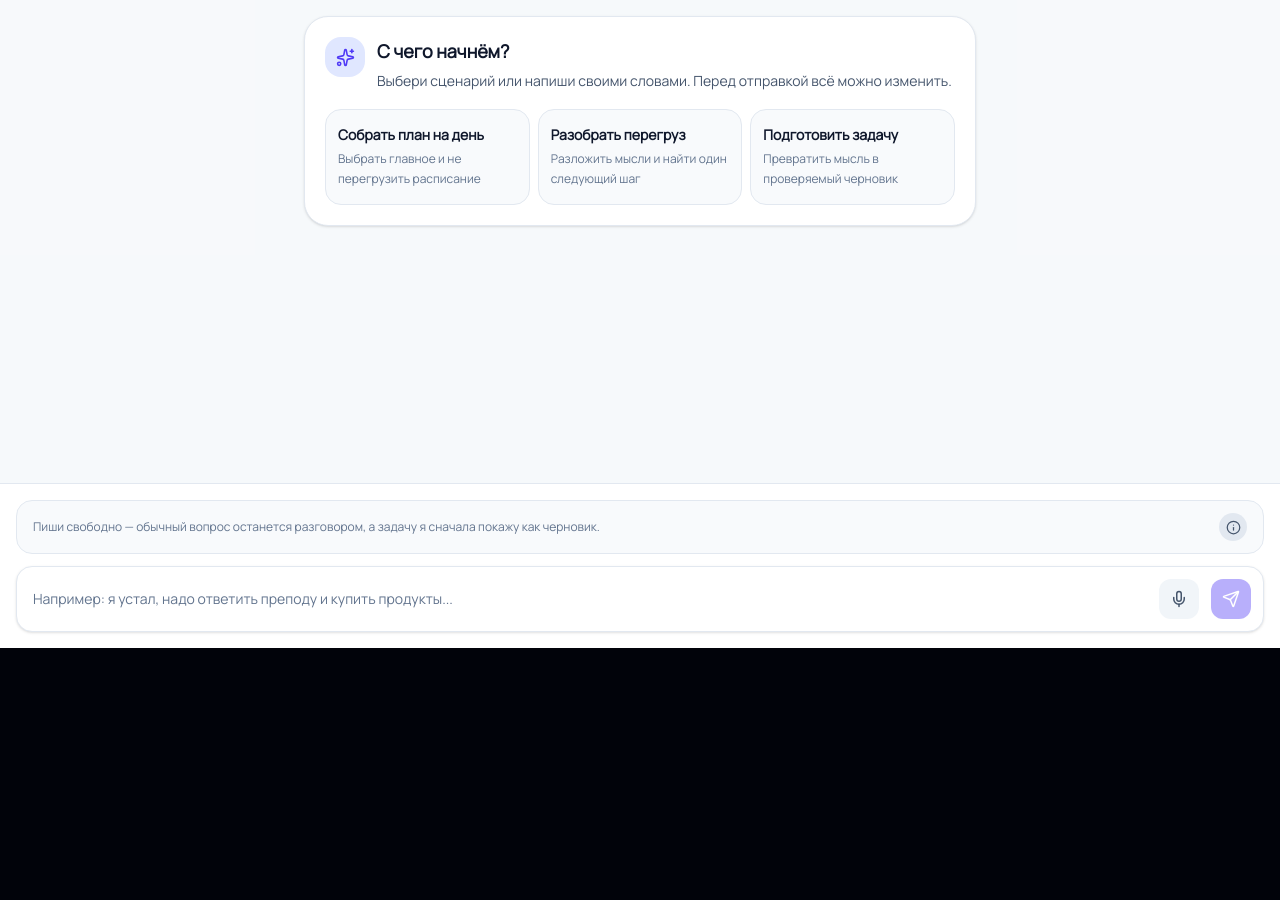
Test: MindHubChat › shows a reply without creating a task
The width and height of the screenshot is (1280, 900).
Replace the text in the text box with placeholder "Например:" with "Как немного восстановиться?" at (588, 599), box [29,579,1147,619]
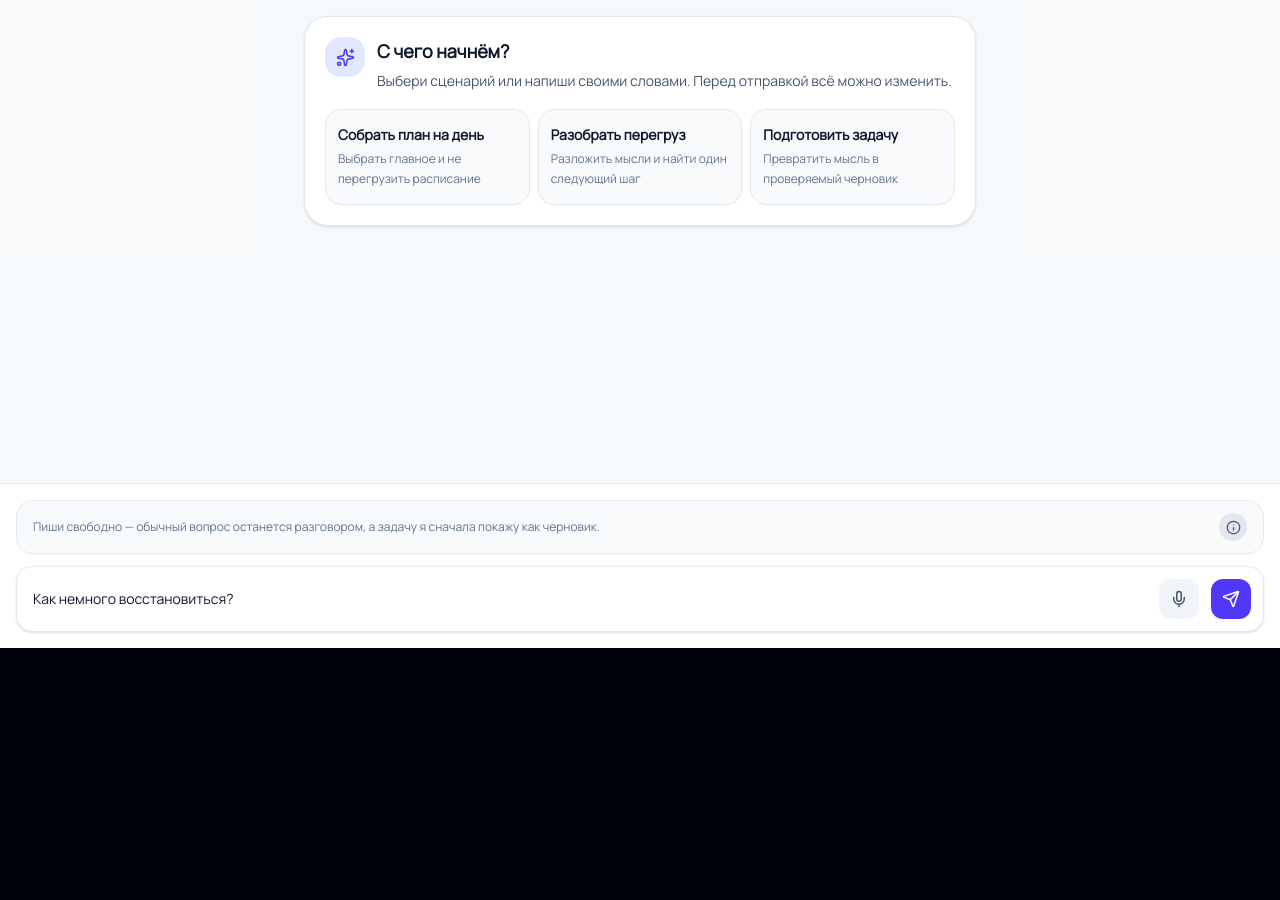
Click the button named "Отправить мысли" at (1231, 599), box [1211,579,1251,619]
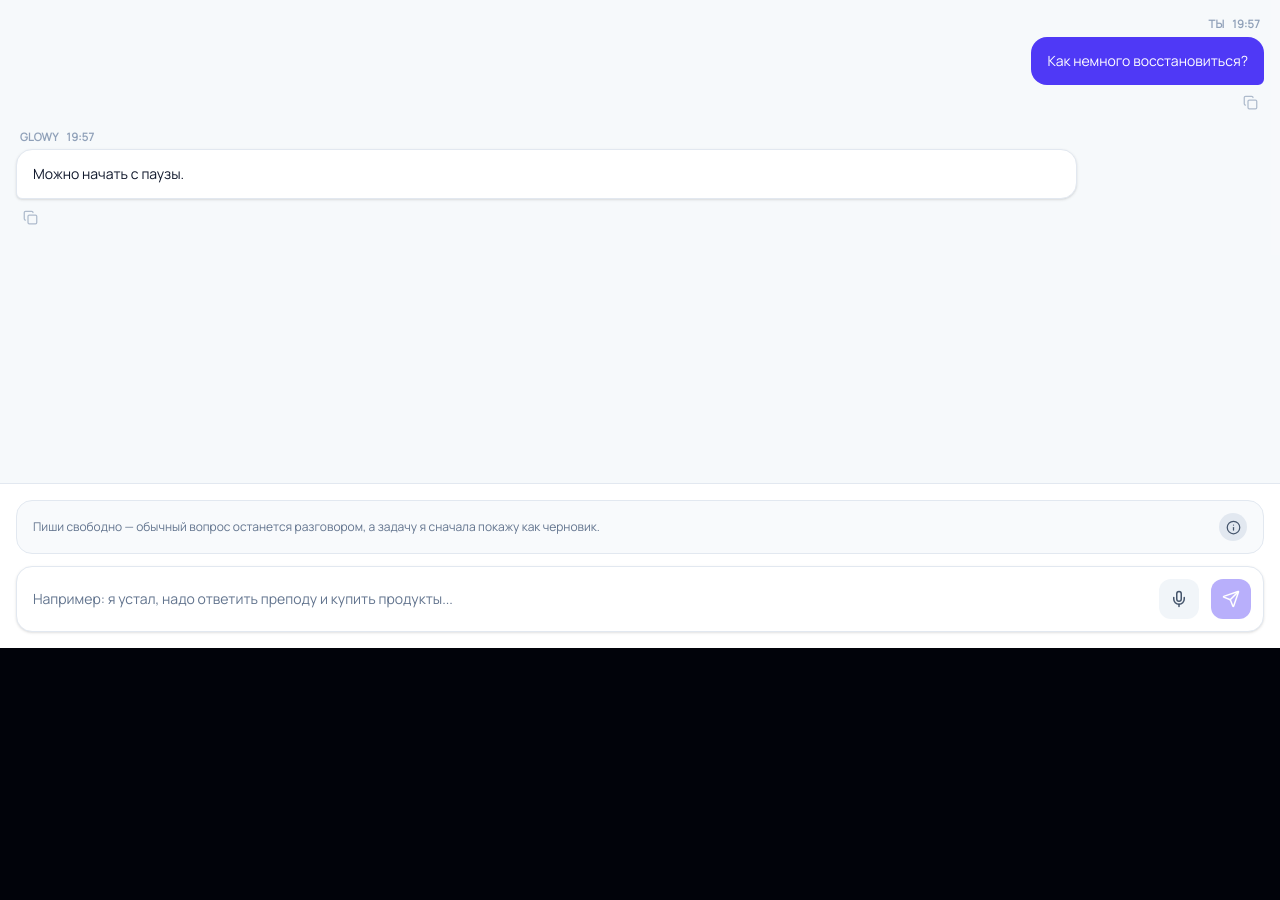
Check: the text "Можно начать с паузы." is shown, box [33,164,184,183]
